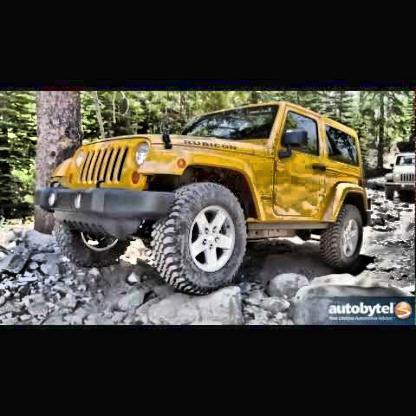Jeep Wrangler SUV 2012: (37, 106, 375, 302)
